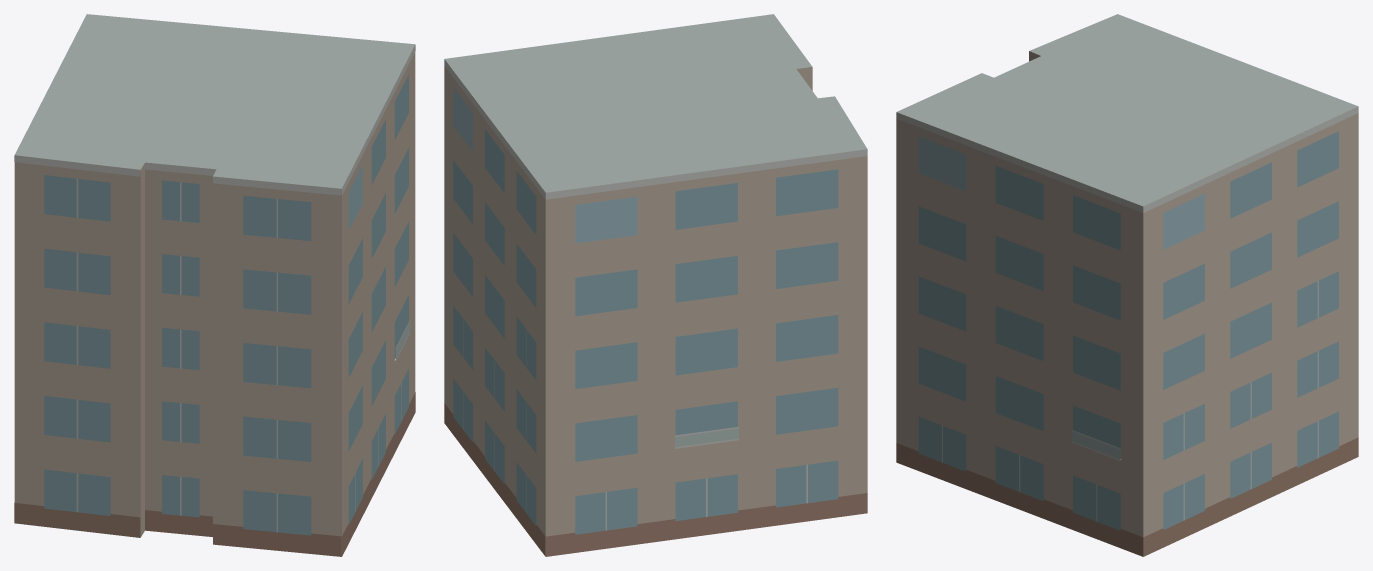
The model's file is survey-upis-32693111.glb.
3 renders of one model, left to right at view 1: azimuth 30°, elevation 25°; view 2: azimuth 150°, elevation 25°; view 3: azimuth 270°, elevation 25°, orthographic. The views are drawn at different scales.
Parts seen in each view (by area): view 1: survey-upis-32693111.tmp; view 2: survey-upis-32693111.tmp; view 3: survey-upis-32693111.tmp.
Boxes of the visible parts, box(x1,y1,x2,y2) form: survey-upis-32693111.tmp: box(14, 14, 415, 556); survey-upis-32693111.tmp: box(444, 14, 867, 556); survey-upis-32693111.tmp: box(896, 14, 1358, 556).
Bounding box in the file's own units: 15.33 × 13 × 15.56.
